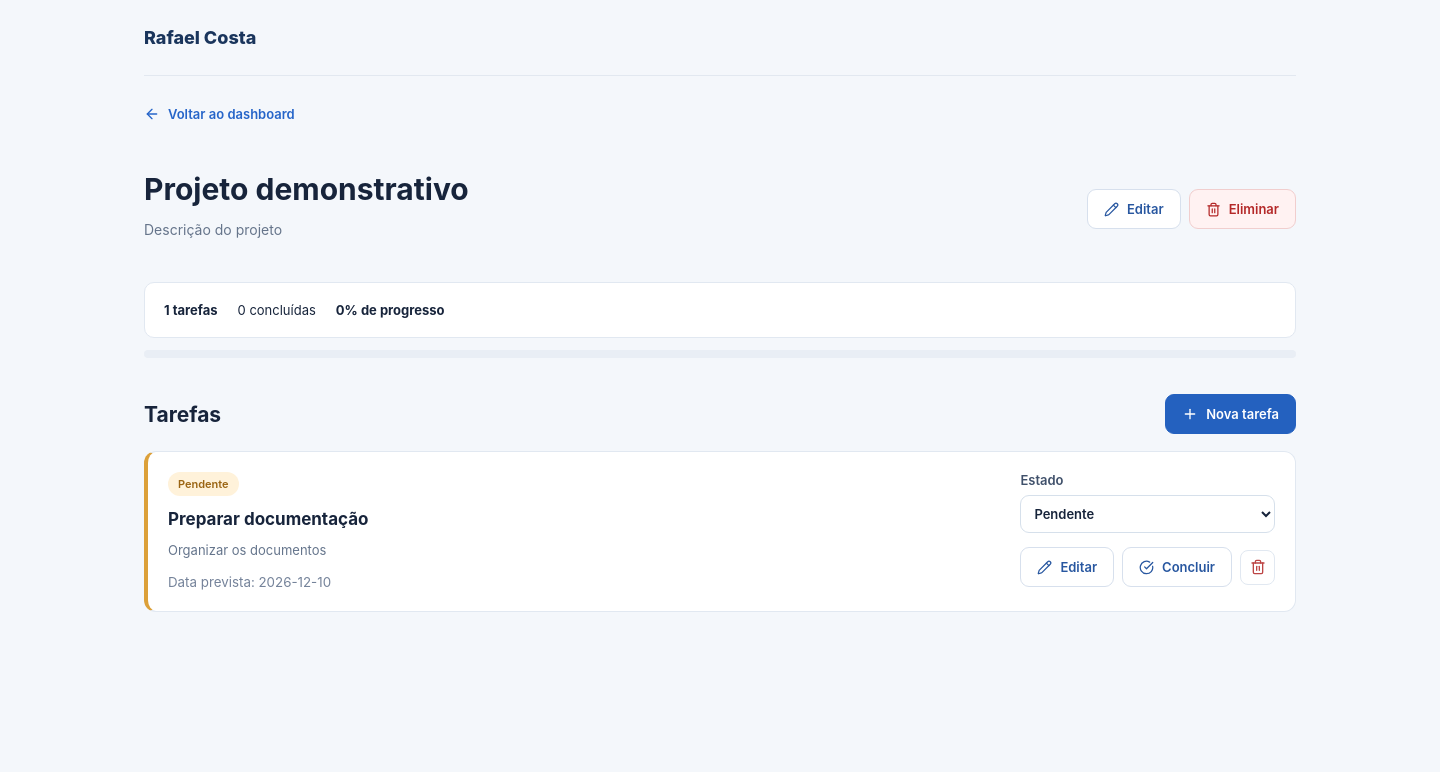
Scenario: Página de detalhes do projeto › cria uma tarefa através do formulário
Expected: the heading "Preparar documentação" is shown, x1=168 y1=509 x2=368 y2=529
Click the button "Nova tarefa": (1231, 414) x1=1165 y1=394 x2=1296 y2=434
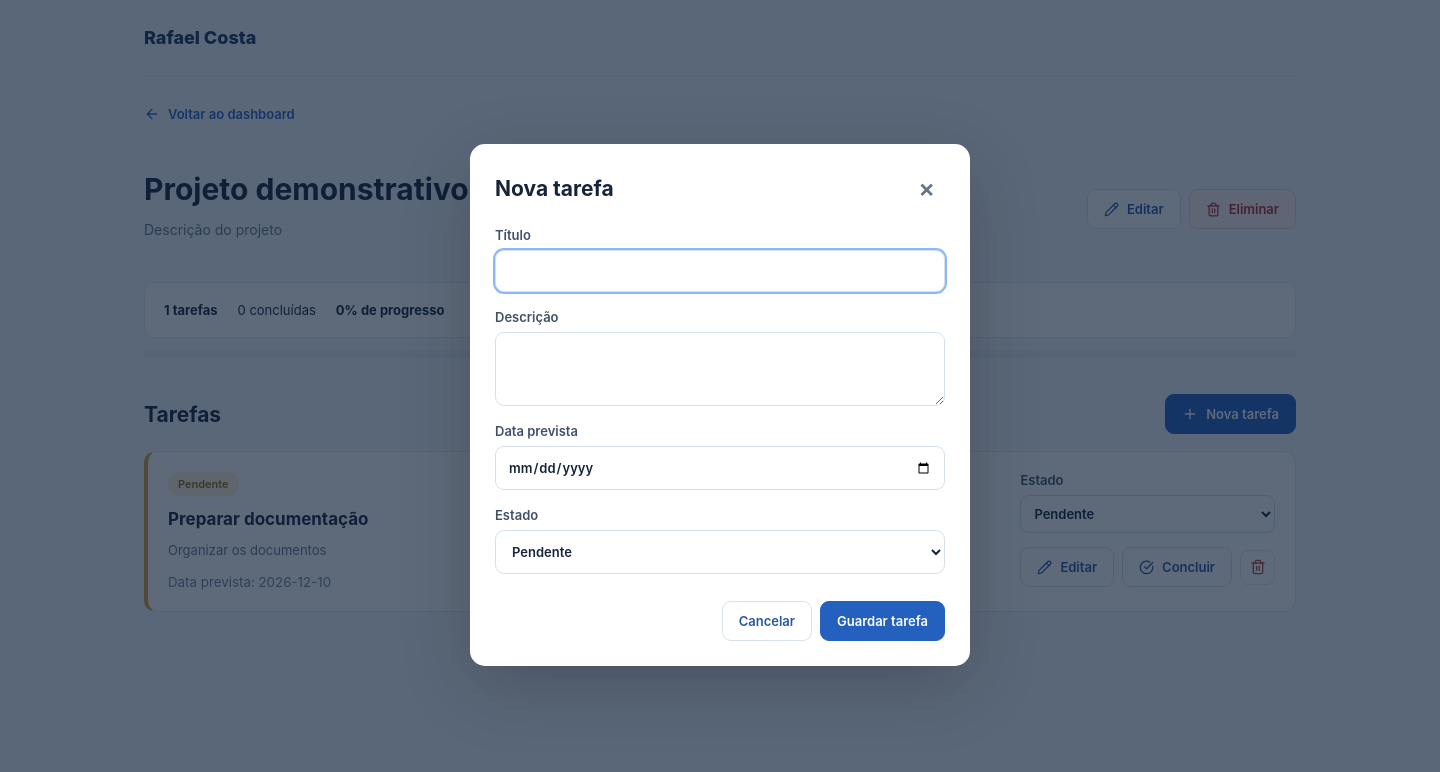
In the field labelled "Título": (720, 271) x1=495 y1=250 x2=945 y2=292, type "Nova atividade"
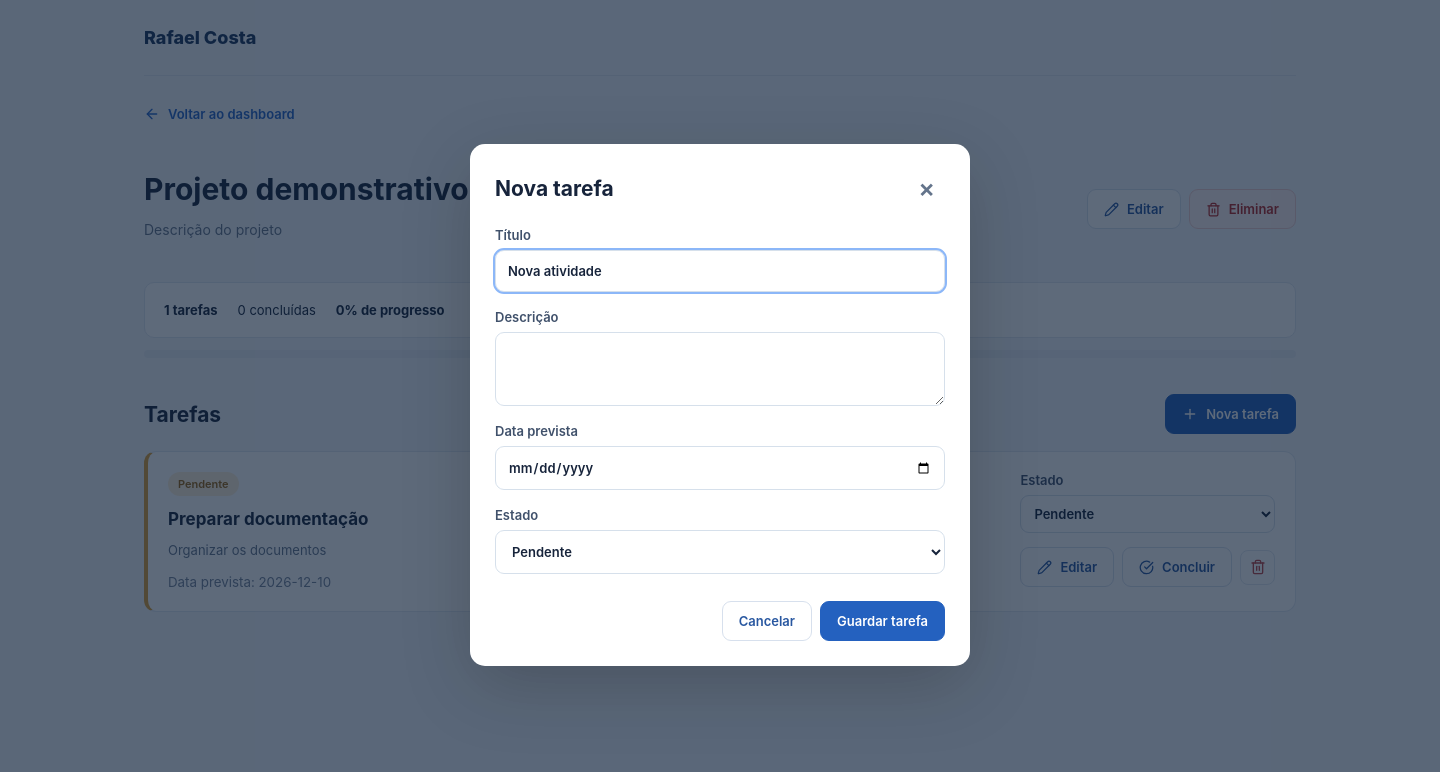
In the text box labelled "Descrição": (720, 369) x1=495 y1=332 x2=945 y2=406, type "Atividade adicionada"
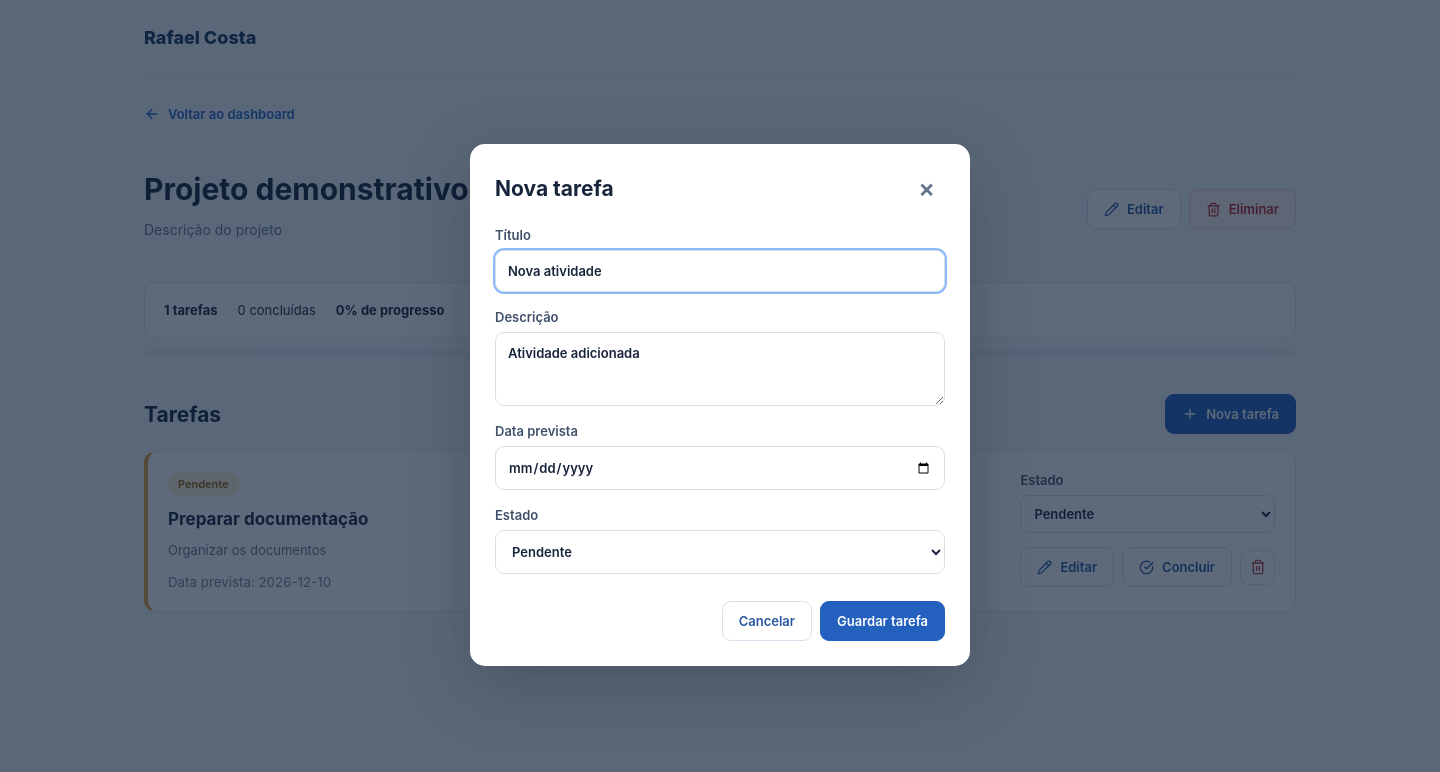
In the date field labelled "Data prevista": (720, 468) x1=495 y1=446 x2=945 y2=490, type "2026-12-15"
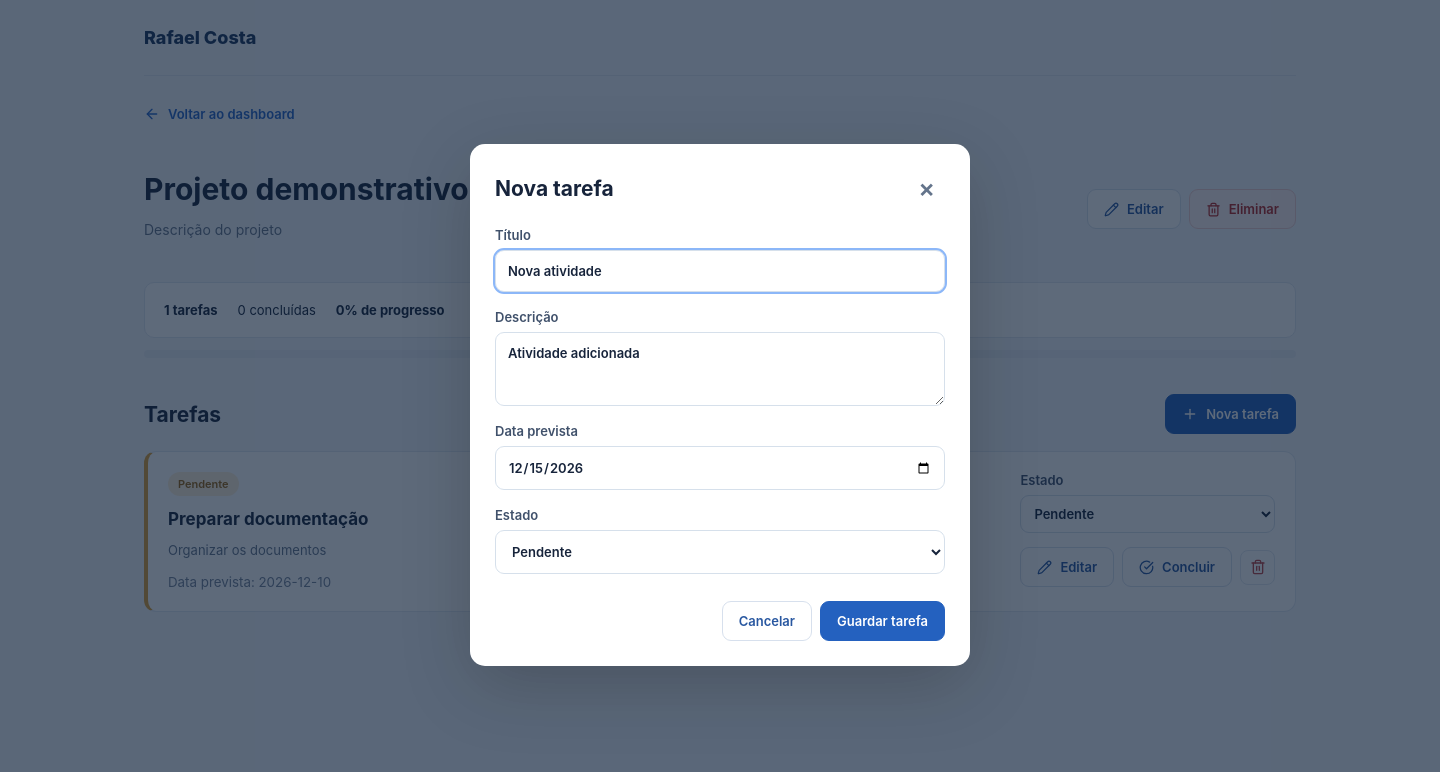
Click the button "Guardar tarefa": (882, 621) x1=820 y1=601 x2=945 y2=641
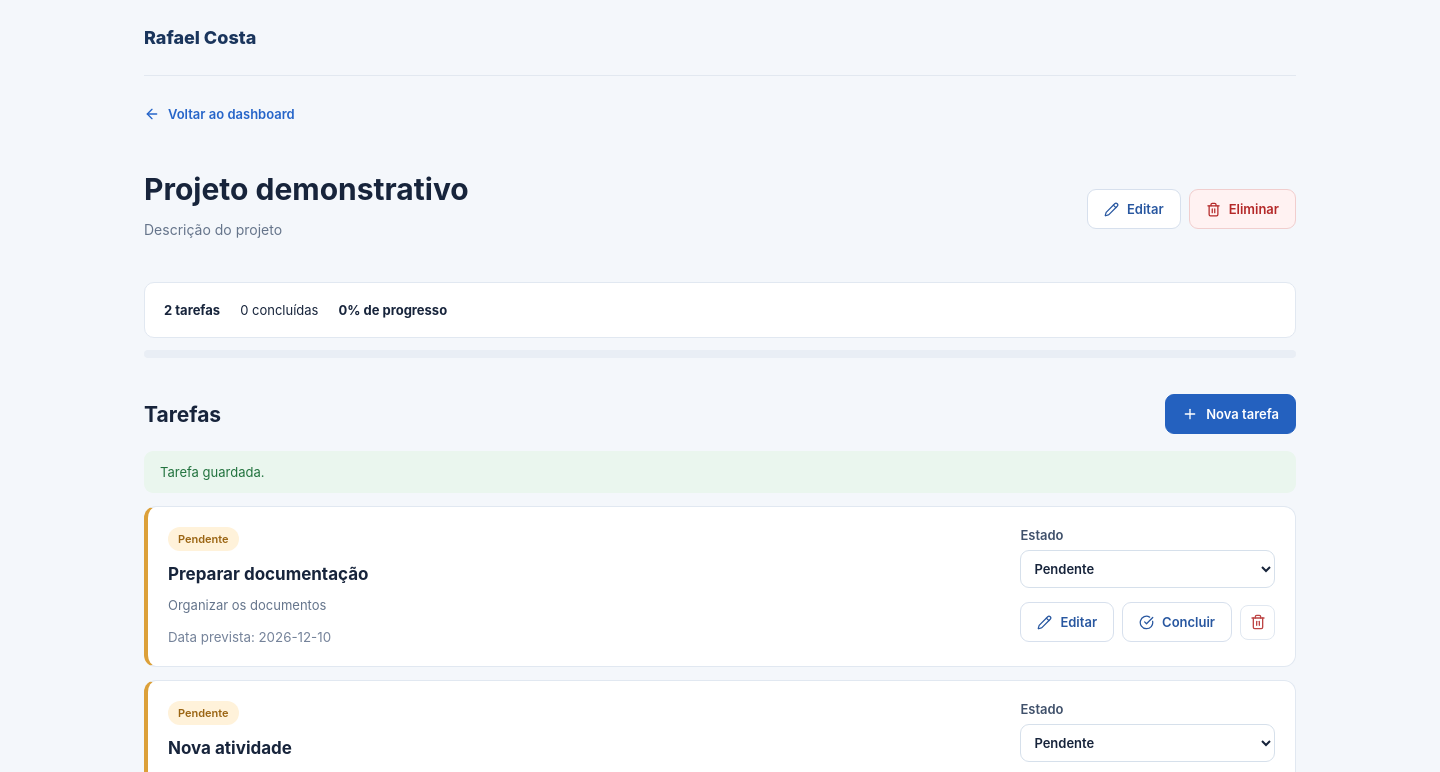
Expected: the heading "Nova atividade" is shown, x1=168 y1=738 x2=292 y2=758
